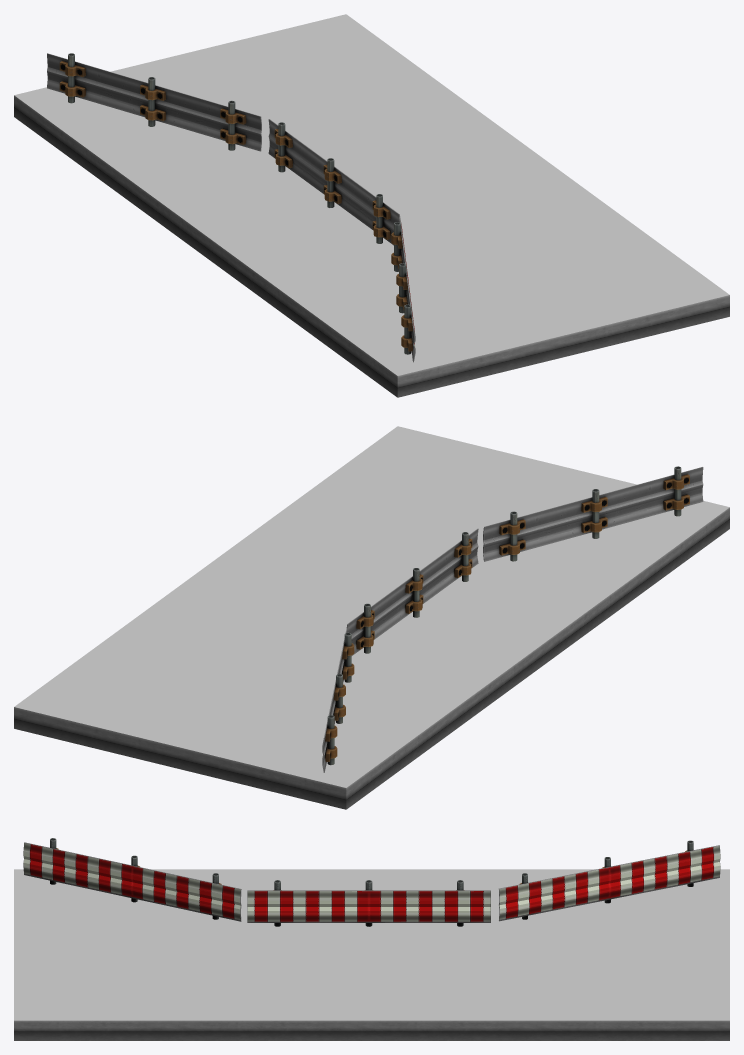
The model's file is Chicane3.fbx.
3 views of the same model, one above another, from view 1: azimuth 30°, elevation 25°; view 2: azimuth 150°, elevation 25°; view 3: azimuth 270°, elevation 25° (orthographic). The views are drawn at different scales.
Visible parts, largest first — view 1: Empty_Mesh; view 2: Empty_Mesh; view 3: Empty_Mesh.
Boxes of the visible parts, bbox=[...] form: Empty_Mesh: bbox=[14, 14, 729, 397]; Empty_Mesh: bbox=[14, 426, 729, 809]; Empty_Mesh: bbox=[14, 838, 729, 1040].
Size of the model in its own units: 1600 by 317 by 3200.
